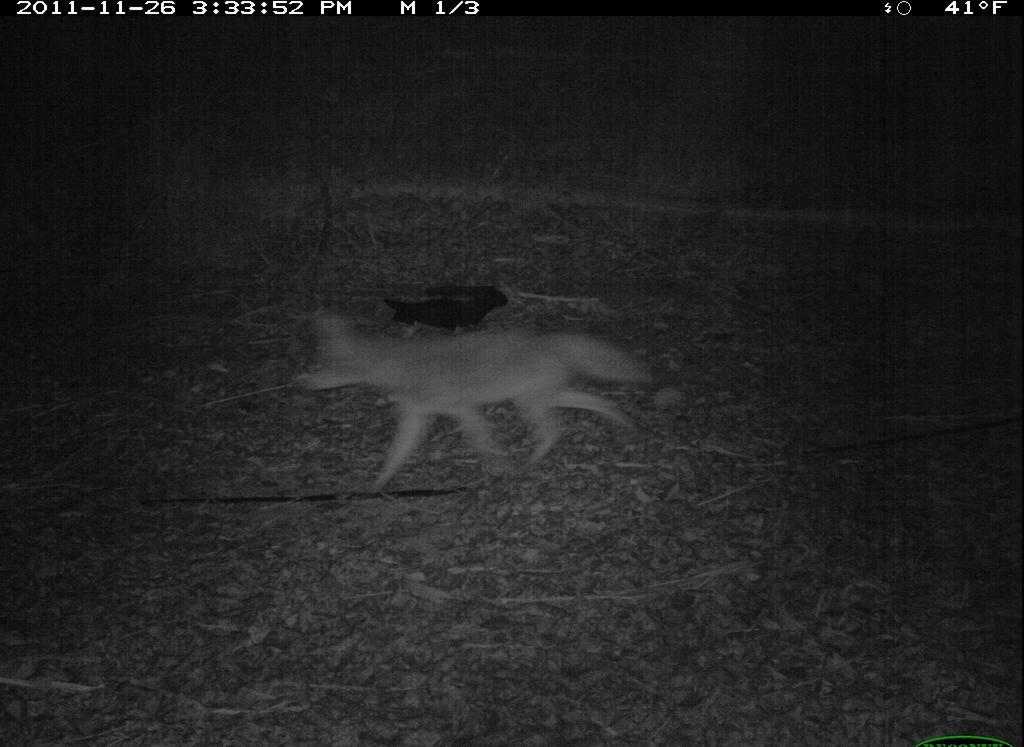coyote: (277, 295, 679, 506)
